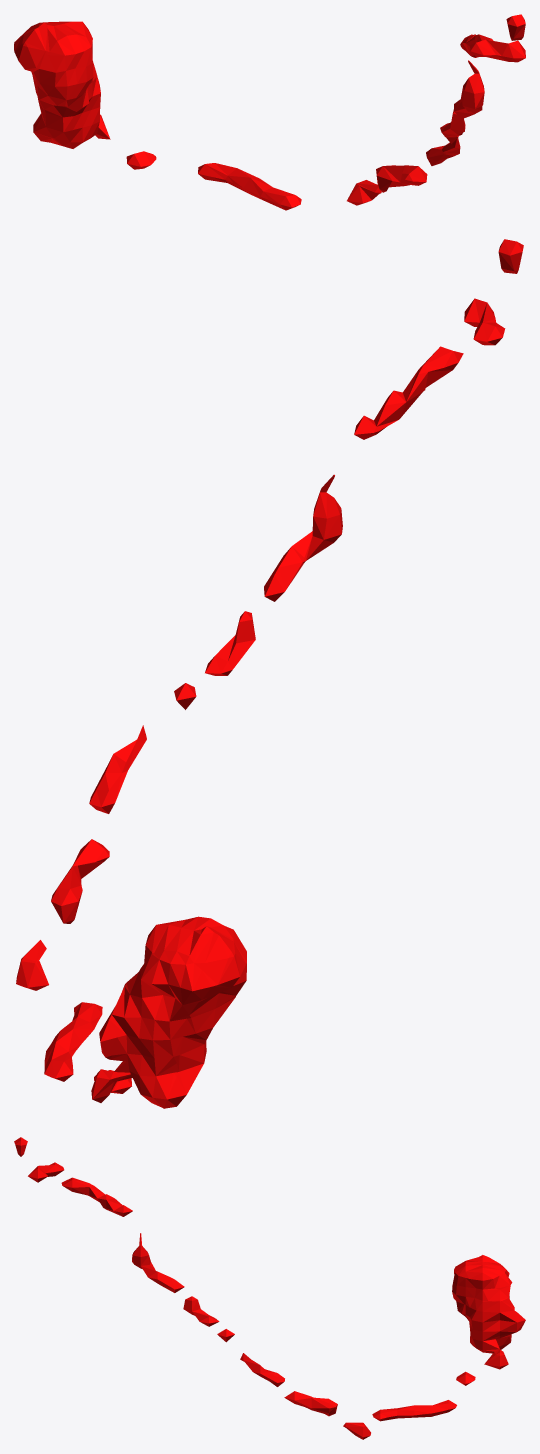
Rendered from ftsY_coarse.dae.
3 views of the same model, one above another, from view 1: azimuth 30°, elevation 25°; view 2: azimuth 150°, elevation 25°; view 3: azimuth 270°, elevation 25° (orthographic). The views are drawn at different scales.
Parts seen in each view (by area): view 1: ftsY; view 2: ftsY; view 3: ftsY.
Part boxes in pixels (x1,y1,x2,y2): ftsY: [14, 14, 525, 210]; ftsY: [16, 239, 523, 1108]; ftsY: [14, 1137, 525, 1439].
Size of the model in its own units: 153 by 220 by 381.
